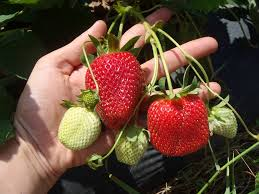ripe: (144, 90, 214, 165), (84, 48, 146, 131)
unripe: (57, 104, 100, 150), (111, 128, 149, 169), (206, 102, 239, 141)
